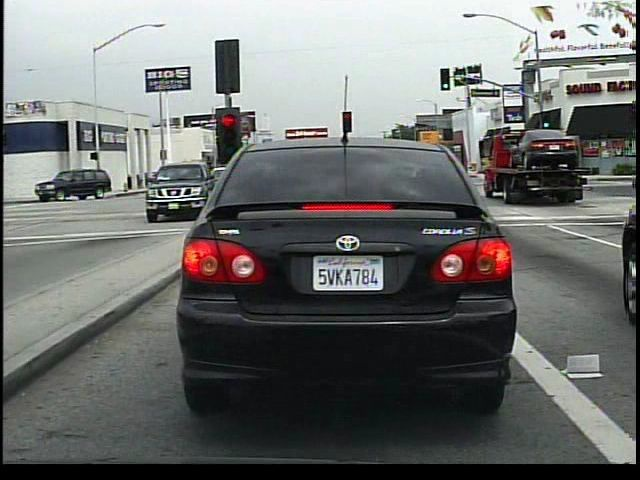person: (178, 172, 199, 197)
